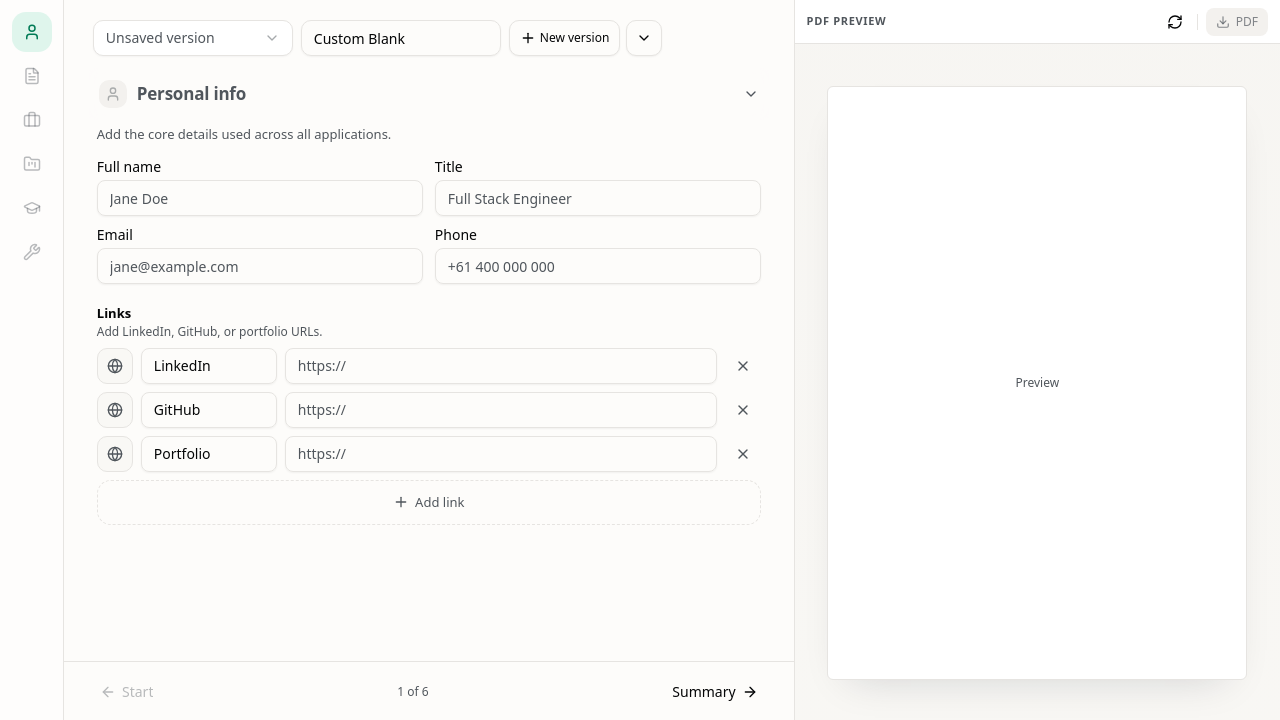
Resume page › collapses a section from its own header without losing the others
The image size is (1280, 720).
Click the button "Personal info" at (191,94), box x1=93 y1=76 x2=765 y2=112
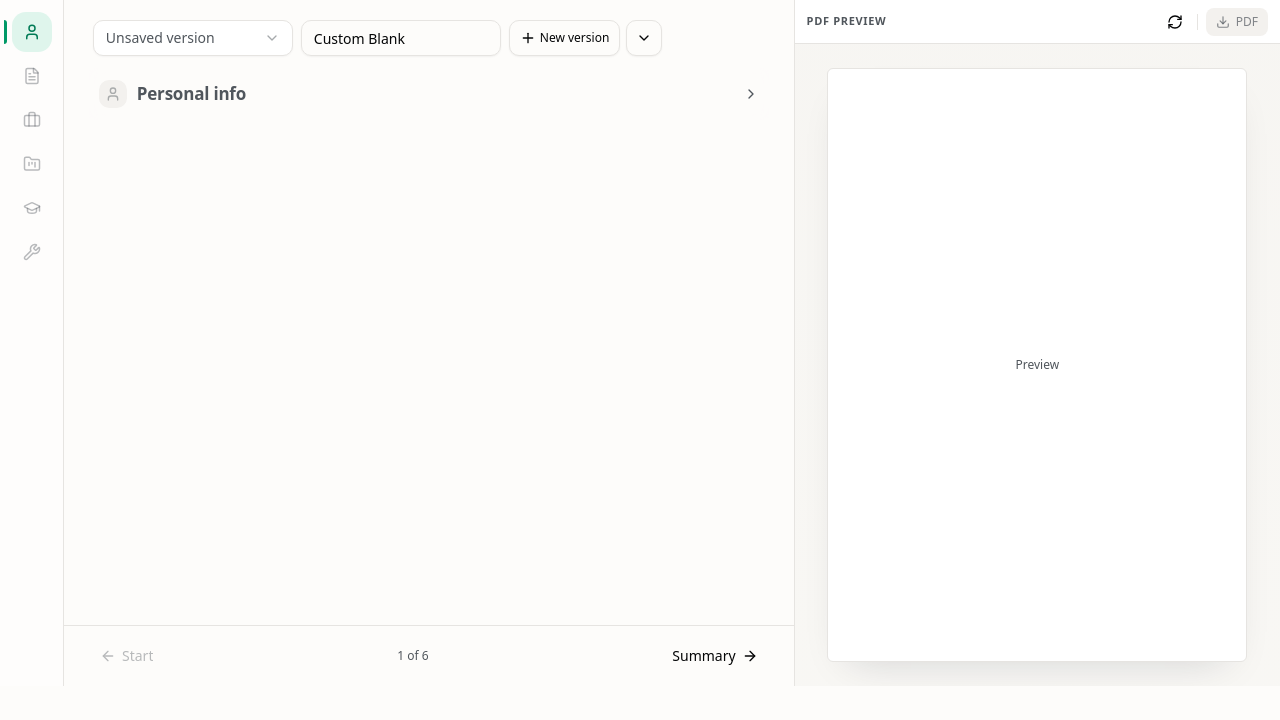
Expected: the button "Personal info" is collapsed, x1=93 y1=76 x2=765 y2=112
Expected: the label "Full name" is gone
